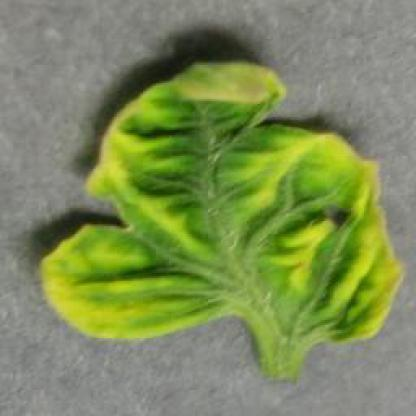bad leaf: (47, 54, 402, 360)
